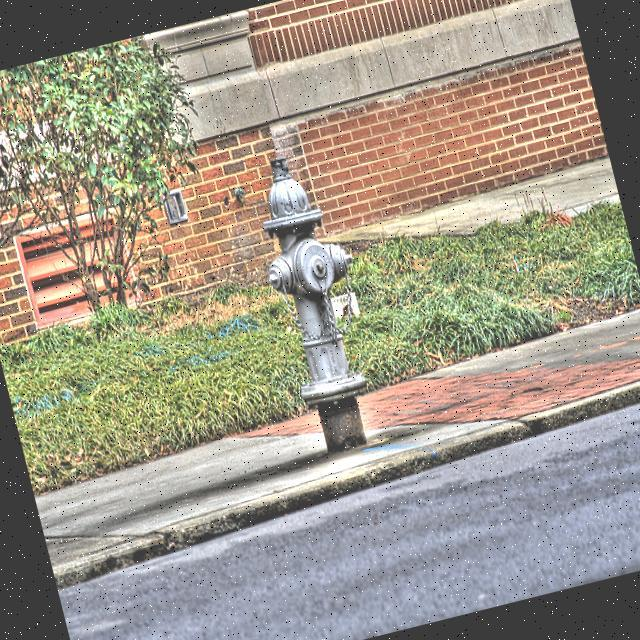fire_hydrant: (238, 143, 393, 455)
